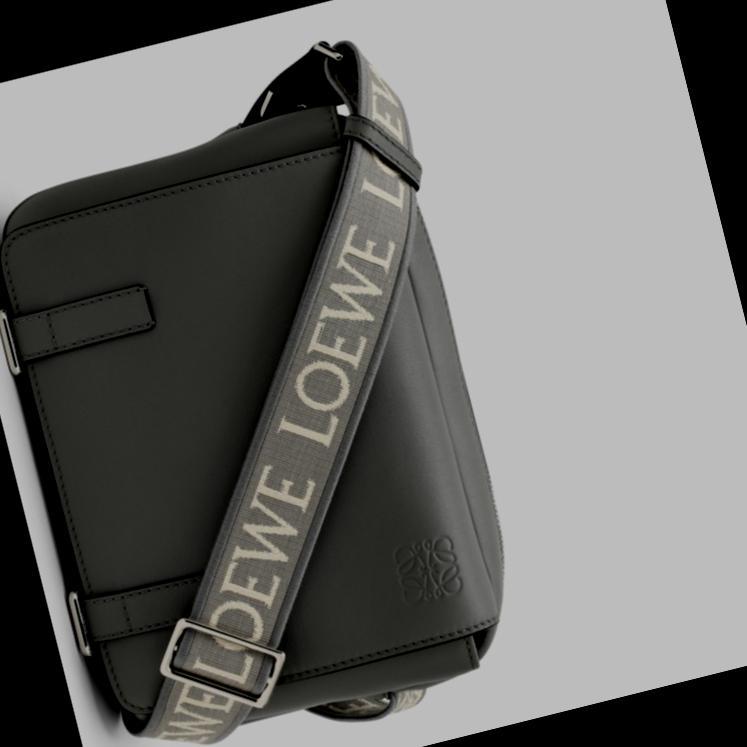LOEWE: (372, 522, 482, 626)
